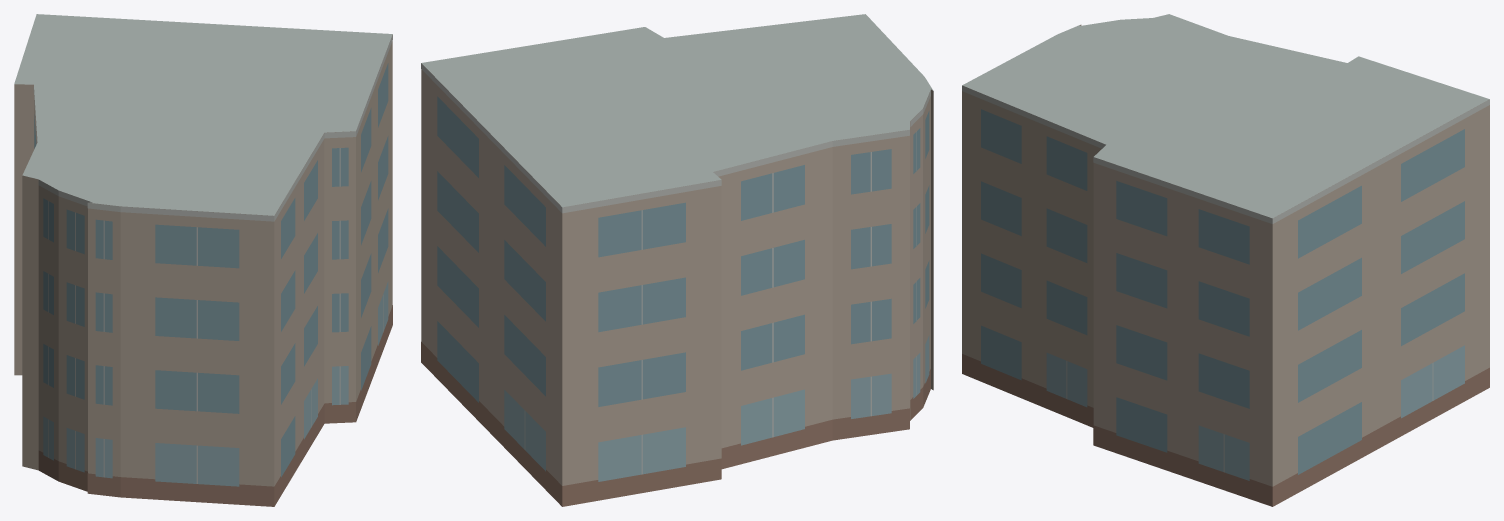
Rendered from survey-upis-32645027.glb.
The picture shows the model from 3 angles, left to right: view 1: azimuth 30°, elevation 25°; view 2: azimuth 150°, elevation 25°; view 3: azimuth 270°, elevation 25°; orthographic projection. The views are drawn at different scales.
Parts seen in each view (by area): view 1: survey-upis-32645027.tmp; view 2: survey-upis-32645027.tmp; view 3: survey-upis-32645027.tmp.
Boxes of the visible parts, x1,y1,x2,y2 form: survey-upis-32645027.tmp: [14, 14, 392, 506]; survey-upis-32645027.tmp: [421, 14, 933, 506]; survey-upis-32645027.tmp: [962, 14, 1489, 506].
Bounding box in the file's own units: 18.55 × 12.2 × 20.24.
